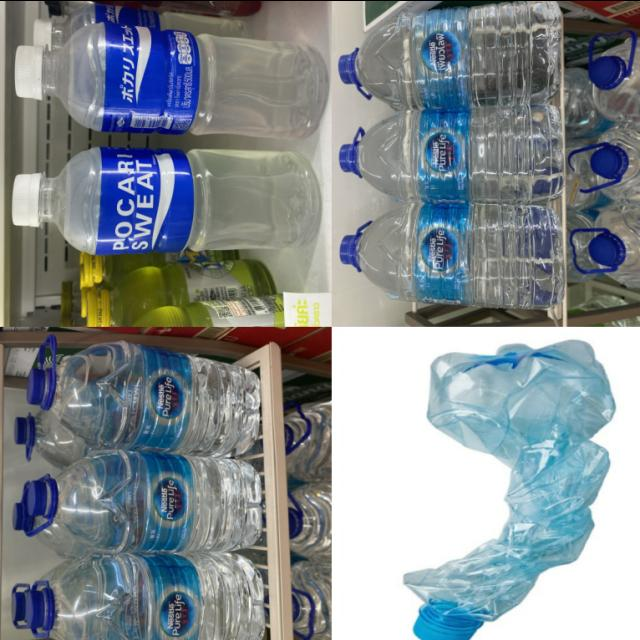plastik: (403, 339, 615, 640), (14, 22, 328, 139), (12, 146, 321, 254), (26, 334, 260, 456), (338, 0, 562, 109), (25, 449, 263, 550), (340, 202, 565, 308), (340, 104, 563, 202), (25, 553, 264, 640), (569, 204, 640, 287), (568, 123, 640, 201), (589, 32, 640, 121), (285, 400, 331, 481), (289, 481, 332, 562), (291, 560, 332, 640)
